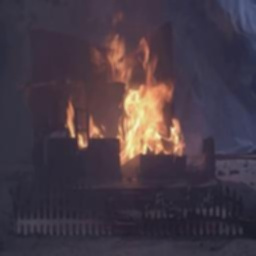fire: (68, 34, 193, 163)
